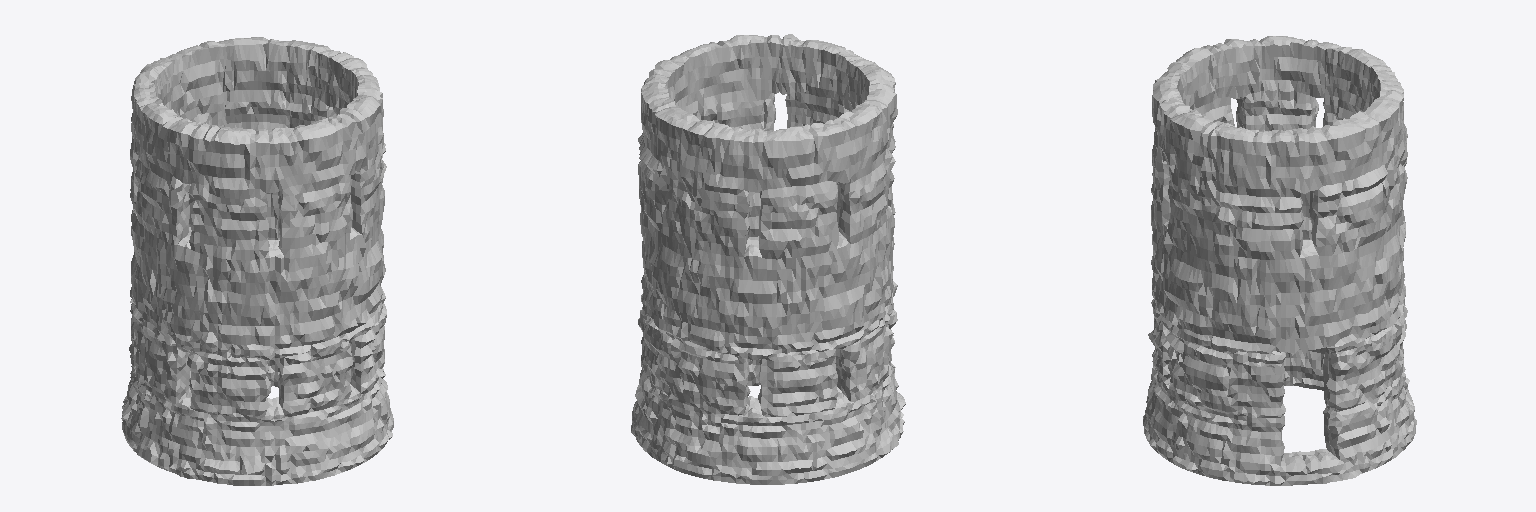
The model's file is tall_tower.obj.
3 views of the same model, side by side, from view 1: azimuth 30°, elevation 25°; view 2: azimuth 150°, elevation 25°; view 3: azimuth 270°, elevation 25° (orthographic).
Parts seen in each view (by area): view 1: pack_oldtowers.001; view 2: pack_oldtowers.001; view 3: pack_oldtowers.001.
Boxes of the visible parts, x1=… form: pack_oldtowers.001: x1=121, y1=37, x2=393, y2=485; pack_oldtowers.001: x1=631, y1=34, x2=905, y2=484; pack_oldtowers.001: x1=1143, y1=36, x2=1416, y2=485.
Bounding box in the file's own units: 45.71 × 63.06 × 45.19.